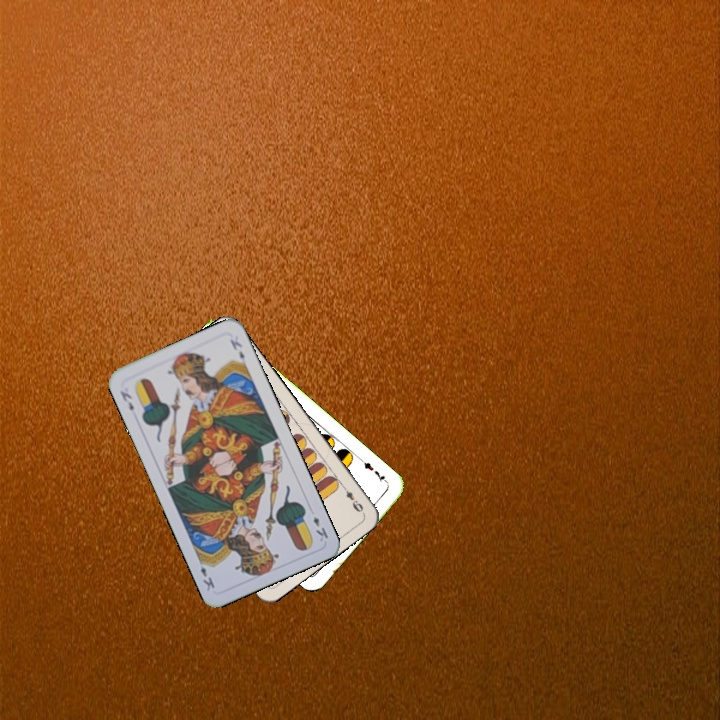E7: (357, 456, 391, 486)
E9: (337, 481, 366, 516)
EK: (309, 513, 331, 544), (116, 387, 136, 414)
